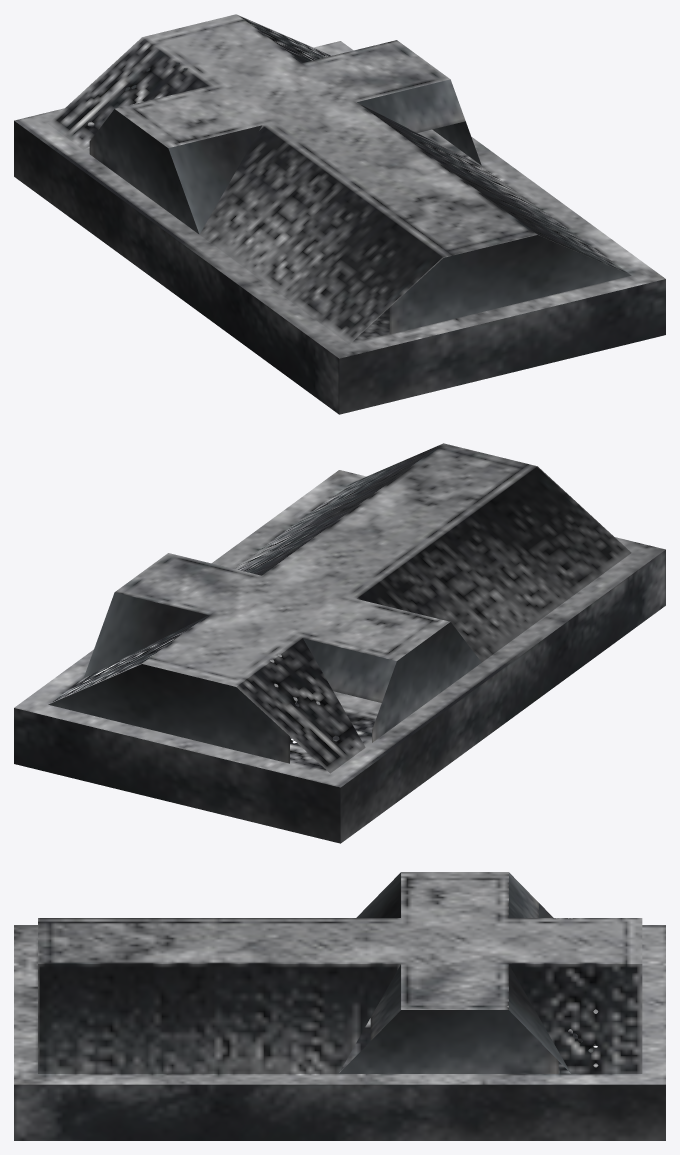
The model's file is Tomb02.obj.
3 views of the same model, one above another, from view 1: azimuth 30°, elevation 25°; view 2: azimuth 150°, elevation 25°; view 3: azimuth 270°, elevation 25° (orthographic).
Parts seen in each view (by area): view 1: Mesh_0; view 2: Mesh_0; view 3: Mesh_0.
Part boxes in pixels (x1,y1,x2,y2): Mesh_0: [14, 14, 665, 414]; Mesh_0: [14, 443, 665, 843]; Mesh_0: [14, 872, 665, 1140].
Size of the model in its own units: 1.41 by 0.4923 by 2.42.
Materials: 1 (1 with a texture image).
